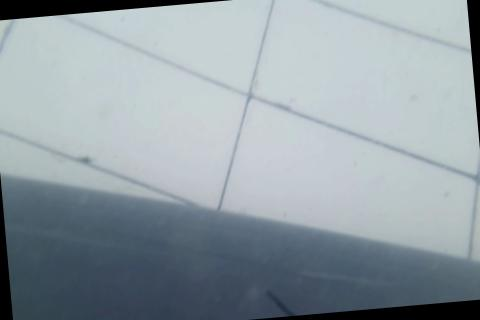keretakan: (264, 284, 306, 318)
